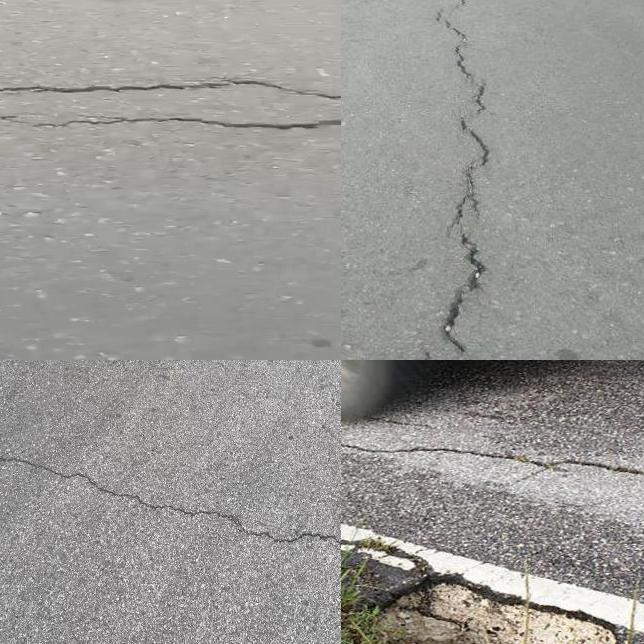Melintang: (0, 444, 341, 557), (0, 65, 341, 142)
Memanjang: (415, 0, 508, 360)
Pinggir: (341, 560, 644, 644)
